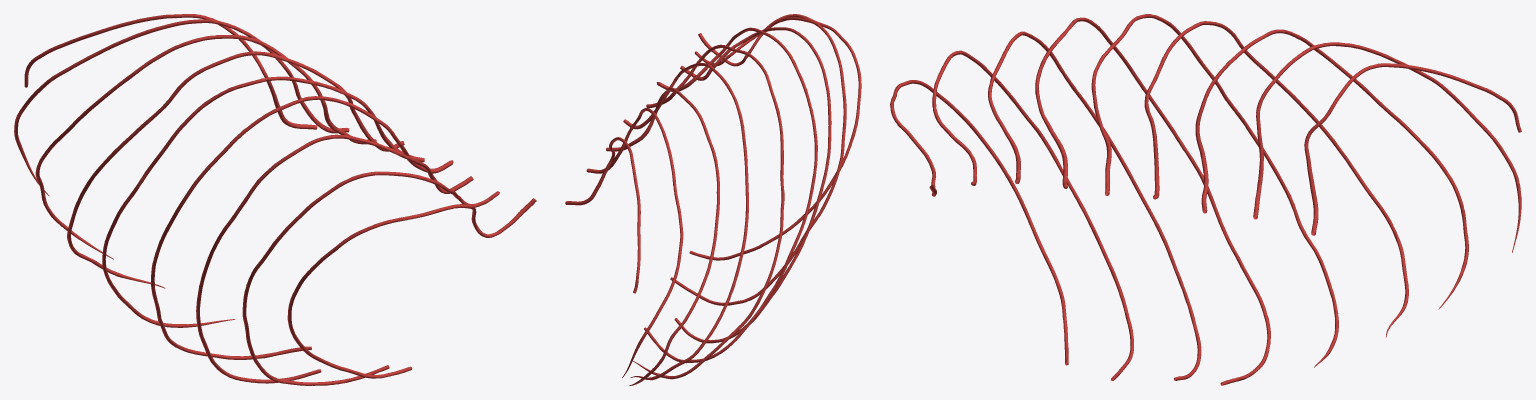
3 views of the same model, side by side, from view 1: azimuth 30°, elevation 25°; view 2: azimuth 150°, elevation 25°; view 3: azimuth 270°, elevation 25° (orthographic). The views are drawn at different scales.
Parts seen in each view (by area): view 1: 右侧肋间后动脉; view 2: 右侧肋间后动脉; view 3: 右侧肋间后动脉.
Boxes of the visible parts, x1,y1,x2,y2 form: 右侧肋间后动脉: (14,14,536,385); 右侧肋间后动脉: (565,14,861,385); 右侧肋间后动脉: (890,14,1521,385).
Size of the model in its own units: 0.2356 by 0.2892 by 0.4915.
